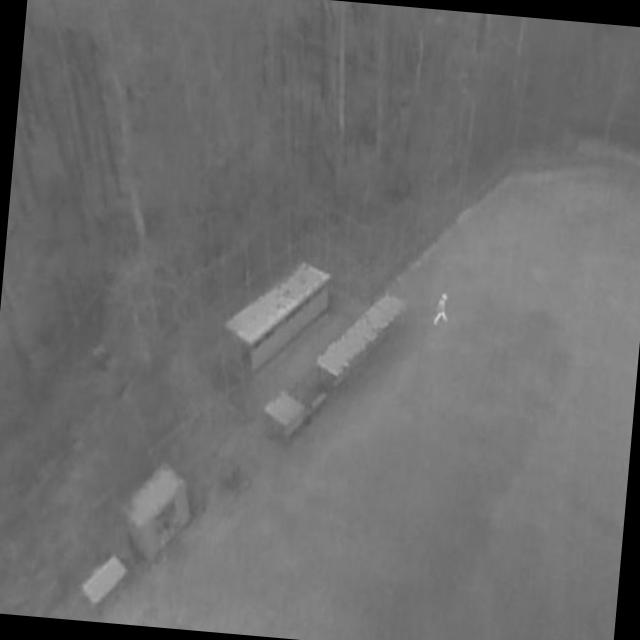person: (433, 293, 451, 327)
